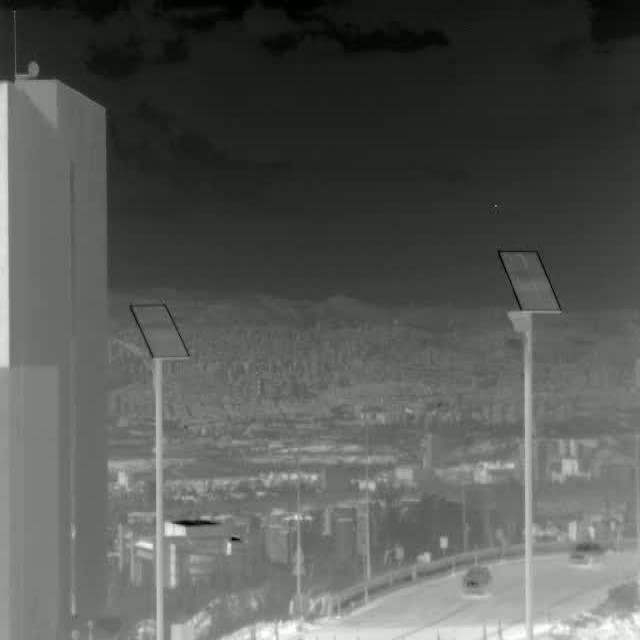Car: (462, 566, 494, 597), (570, 543, 608, 569)
